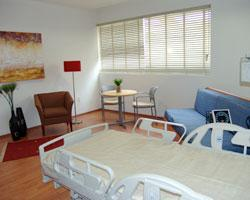Cama: (40, 127, 246, 196)
Ventana: (143, 18, 212, 70), (98, 24, 145, 71)
